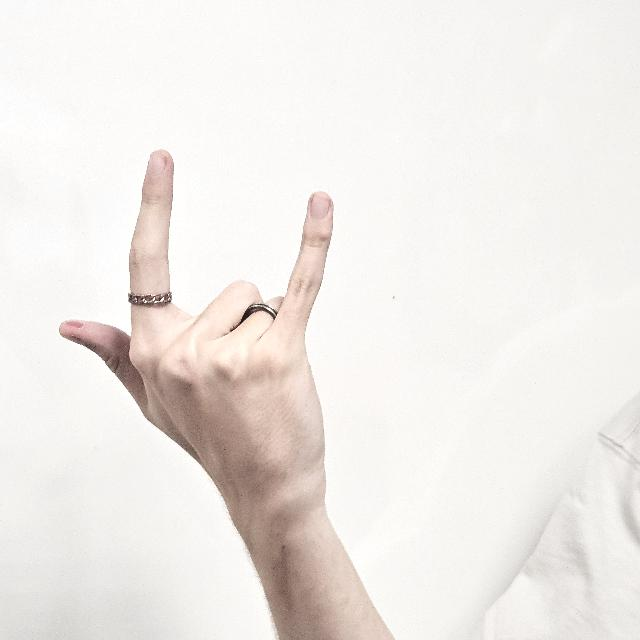Cima: (52, 145, 336, 552)
